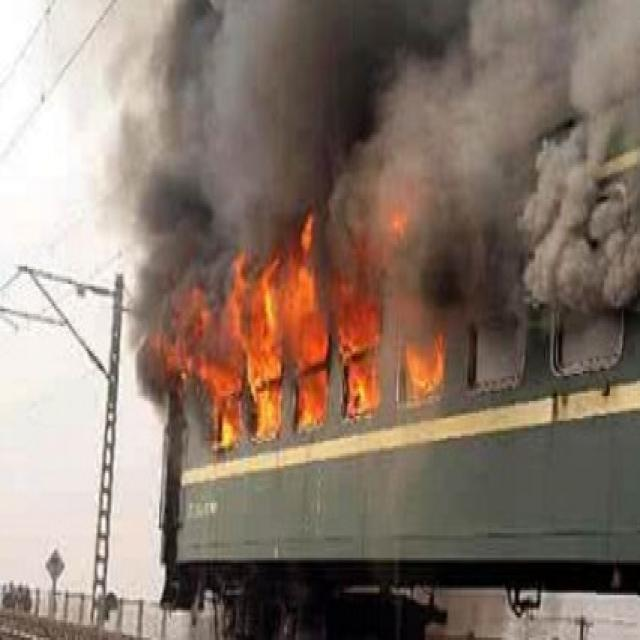Smoke: (84, 0, 640, 453)
